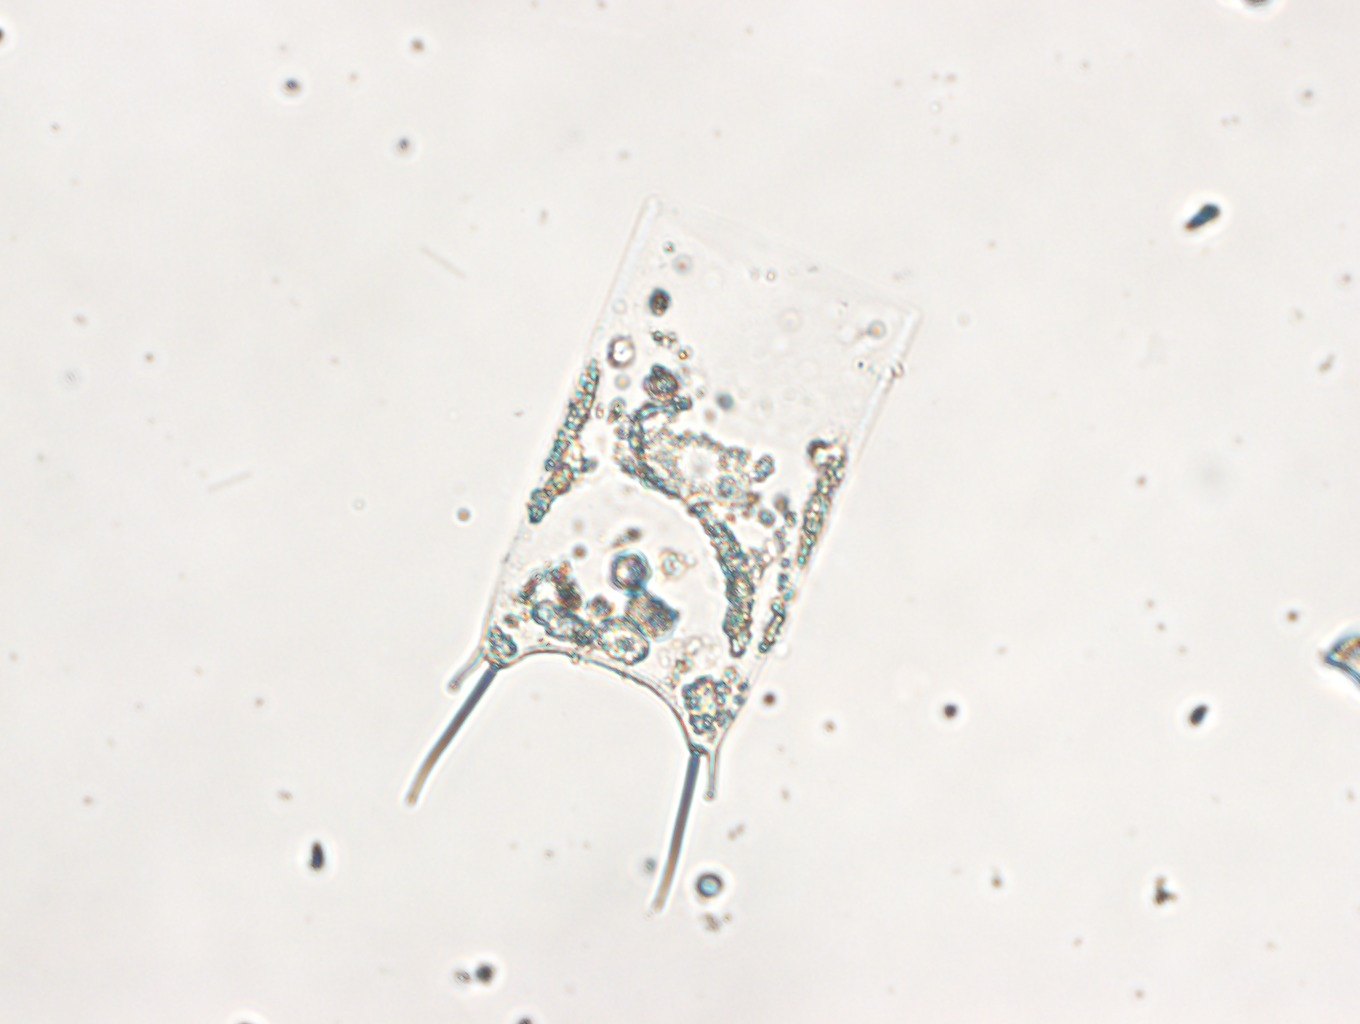biddulphia: (404, 198, 924, 918)
